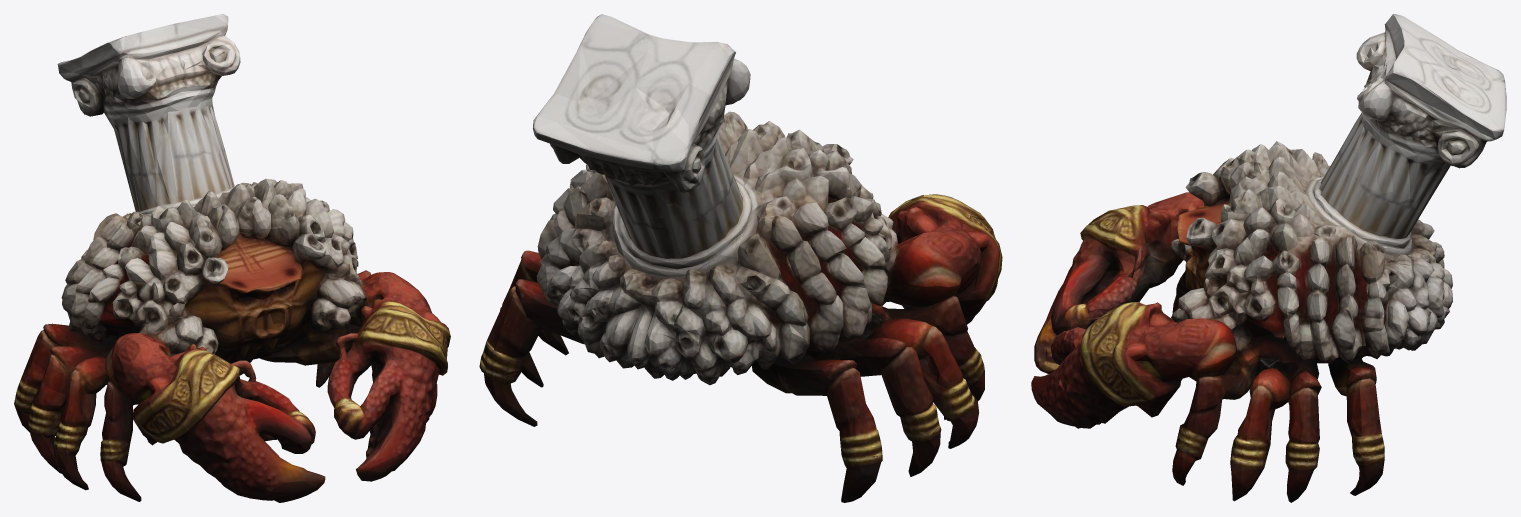
File: atlacrab__pillarBearer.glb
3 views of the same model, side by side, from view 1: azimuth 30°, elevation 25°; view 2: azimuth 150°, elevation 25°; view 3: azimuth 270°, elevation 25° (orthographic). The views are drawn at different scales.
Parts seen in each view (by area): view 1: world; view 2: world; view 3: world.
Boxes of the visible parts, x1,y1,x2,y2 form: world: (14,14,450,502); world: (479,14,1002,502); world: (1031,14,1506,502).
Bounding box in the file's own units: 0.9292 × 0.9037 × 0.9949.
1 material, 1 textured.
